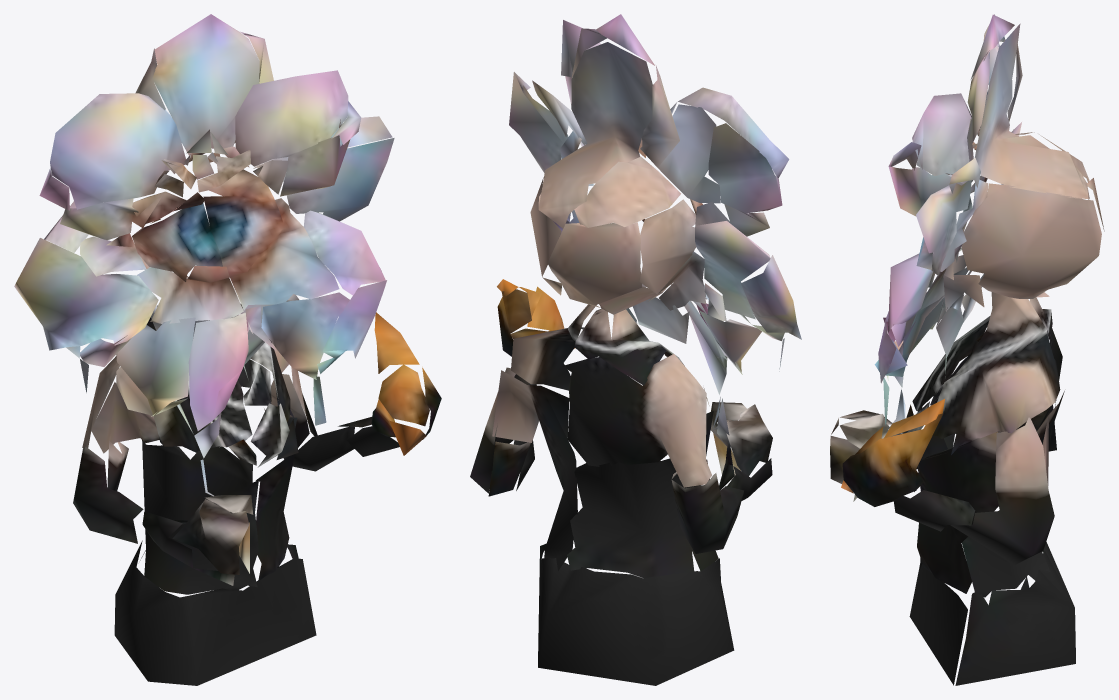
File: crowd_gown_upper.glb
The picture shows the model from 3 angles, left to right: view 1: azimuth 30°, elevation 25°; view 2: azimuth 150°, elevation 25°; view 3: azimuth 270°, elevation 25°; orthographic projection.
Visible parts, largest first — view 1: tripo_node_620514dc-a435-4403-84fe-d3314a613aa5; view 2: tripo_node_620514dc-a435-4403-84fe-d3314a613aa5; view 3: tripo_node_620514dc-a435-4403-84fe-d3314a613aa5.
Boxes of the visible parts, <box> form: tripo_node_620514dc-a435-4403-84fe-d3314a613aa5: <box>14,14,441,685</box>; tripo_node_620514dc-a435-4403-84fe-d3314a613aa5: <box>470,14,801,685</box>; tripo_node_620514dc-a435-4403-84fe-d3314a613aa5: <box>830,14,1104,685</box>.
Size of the model in its own units: 0.3487 by 0.5981 by 0.2368.
1 material, 1 textured.
